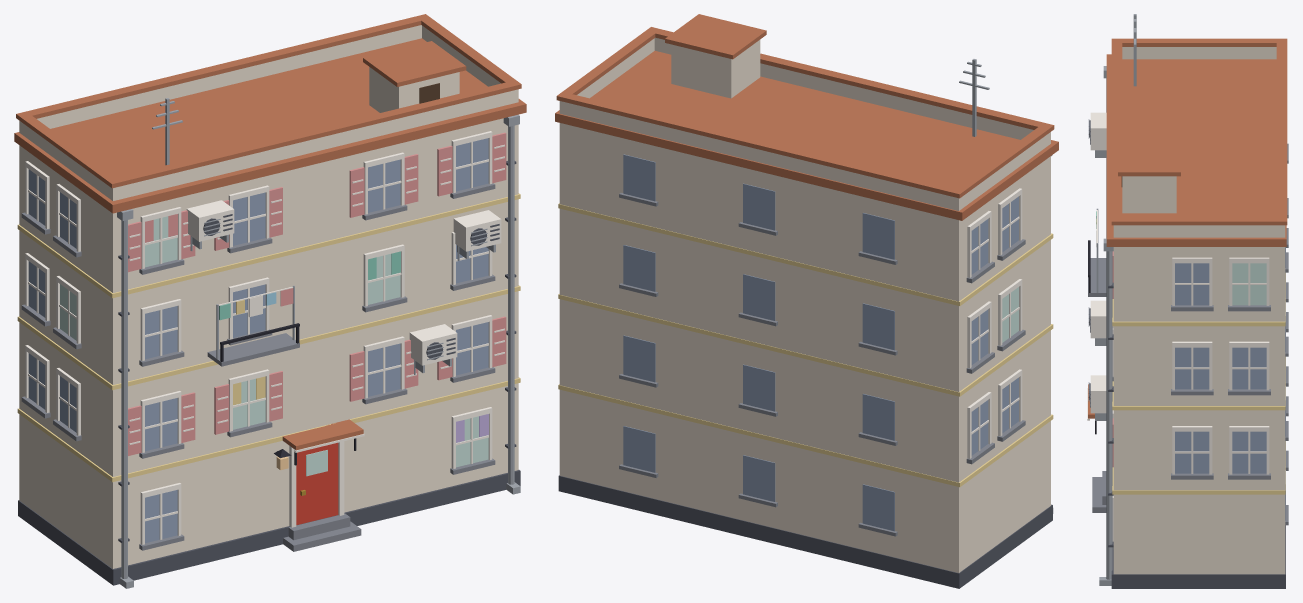
The model's file is CatCafe_Alley_Building_Apartments.fbx.
3 renders of one model, left to right at view 1: azimuth 30°, elevation 25°; view 2: azimuth 150°, elevation 25°; view 3: azimuth 270°, elevation 25°, orthographic. The views are drawn at different scales.
Visible parts, largest first — view 1: CatCafe_Alley_Building_Apartments, CatCafe_Alley_Building_Apartments_Pane; view 2: CatCafe_Alley_Building_Apartments, CatCafe_Alley_Building_Apartments_Pane; view 3: CatCafe_Alley_Building_Apartments, CatCafe_Alley_Building_Apartments_Pane.
Part boxes in pixels (<box>): CatCafe_Alley_Building_Apartments: <box>14,14,526,588</box>; CatCafe_Alley_Building_Apartments_Pane: <box>60,216,488,467</box>; CatCafe_Alley_Building_Apartments: <box>555,14,1058,588</box>; CatCafe_Alley_Building_Apartments_Pane: <box>1002,287,1018,342</box>; CatCafe_Alley_Building_Apartments: <box>1087,14,1288,588</box>; CatCafe_Alley_Building_Apartments_Pane: <box>1232,263,1266,305</box>.
Size of the model in its own units: 30.8 by 32.6 by 14.1.
Materials: 1 (1 with a texture image).
